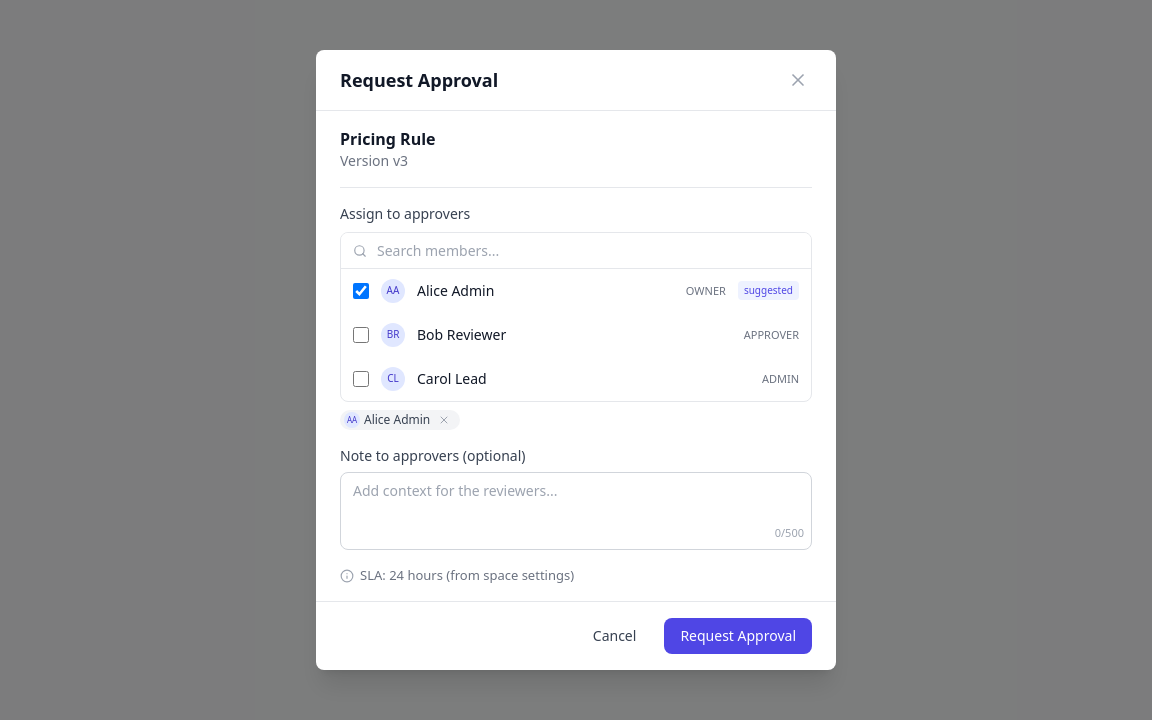
RequestApprovalModal › notes textarea enforces 500 character limit
Check: the text "0/500" is shown, box left=775, top=525, right=804, bottom=542
Type "Hello" into the text box with placeholder "Add context for the reviewers..." at (576, 511), box left=340, top=472, right=812, bottom=550
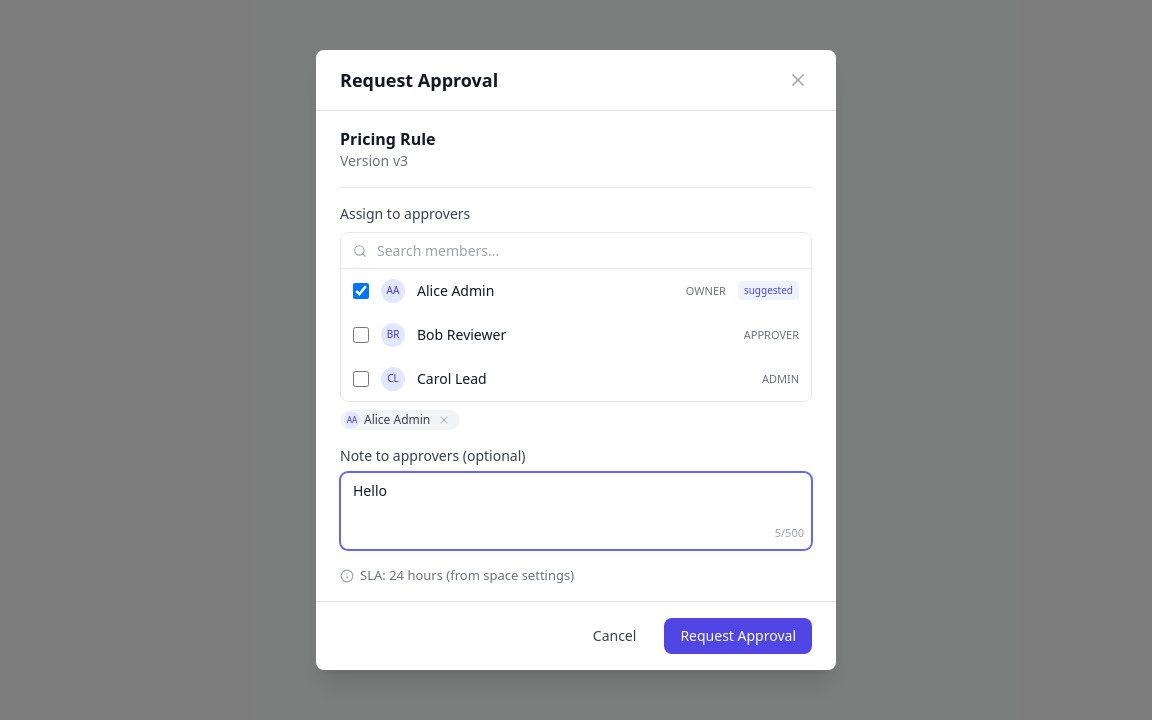
Check: the text "5/500" is shown, box left=775, top=525, right=804, bottom=542
